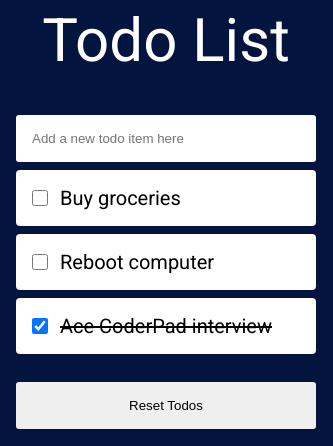
Auto-Sinking Checked Items test suite › Unchecked item is removed from the bottom
The image size is (333, 446).
Click the text "Buy groceries": (121,198) top-left (60, 186), bottom-right (181, 210)
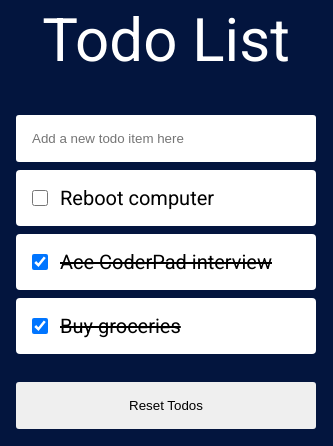
expect the text "Buy groceries" is shown: met
Click the text "Buy groceries": (121,326) top-left (60, 314), bottom-right (181, 338)
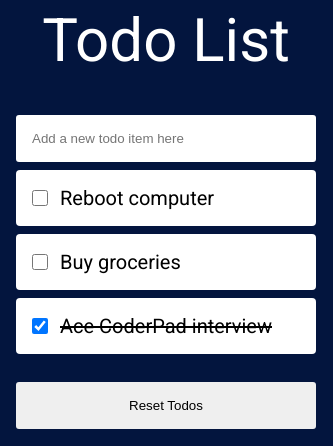
expect the text "Ace CoderPad interview" is shown: met, box top-left (60, 314), bottom-right (272, 338)
